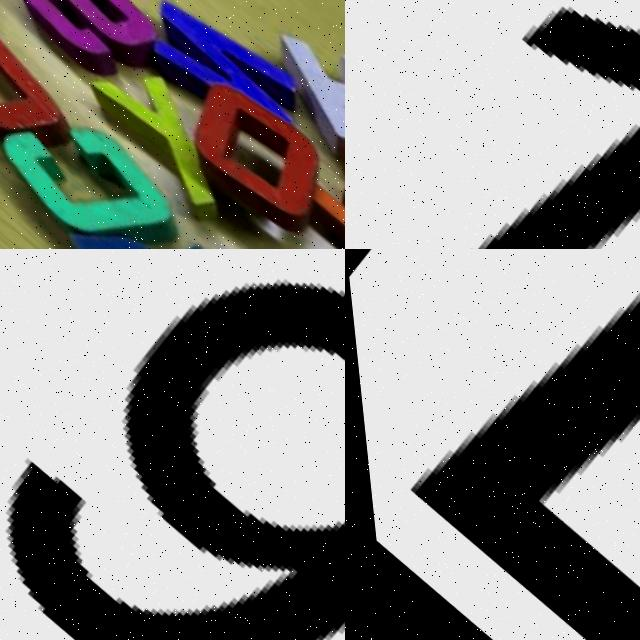1: (345, 0, 640, 249)
9: (0, 249, 345, 640)
H: (242, 1, 345, 208)
L: (361, 249, 640, 640)
O: (151, 50, 345, 241)
U: (0, 0, 91, 172)
